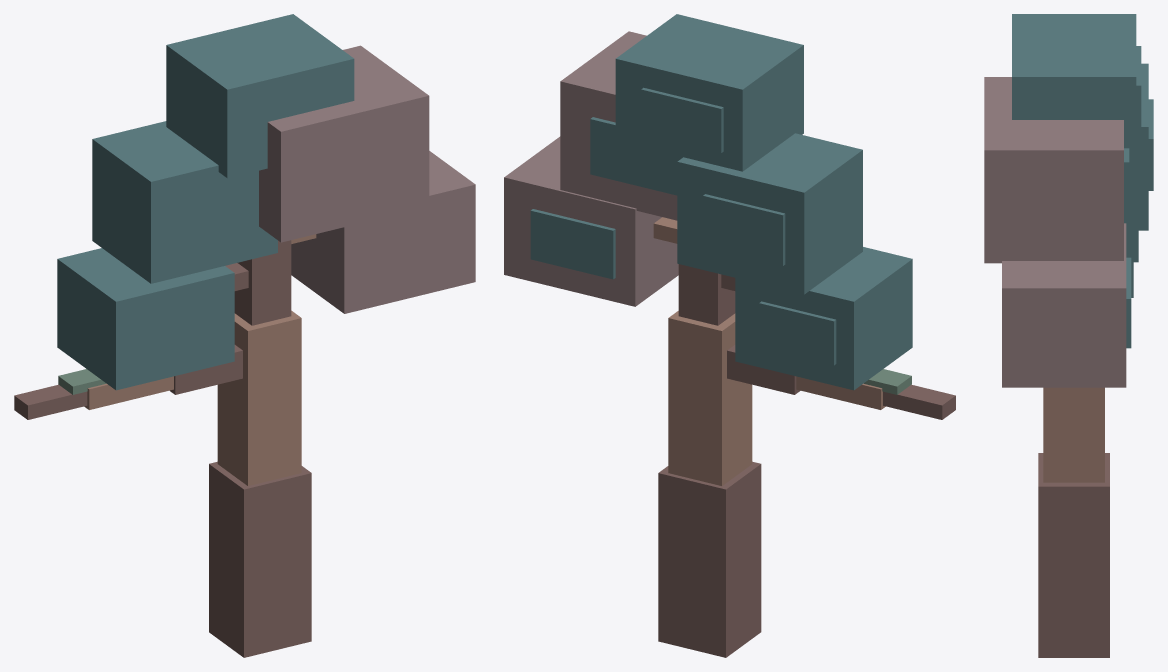
The model's file is menu_perch_tree.glb.
3 views of the same model, side by side, from view 1: azimuth 30°, elevation 25°; view 2: azimuth 150°, elevation 25°; view 3: azimuth 270°, elevation 25° (orthographic).
Visible parts, largest first — view 1: Moonpost Menu Perch Tree; view 2: Moonpost Menu Perch Tree; view 3: Moonpost Menu Perch Tree.
Boxes of the visible parts, <box> form: Moonpost Menu Perch Tree: <box>14,14,475,657</box>; Moonpost Menu Perch Tree: <box>504,14,955,657</box>; Moonpost Menu Perch Tree: <box>984,14,1153,657</box>.
Size of the model in its own units: 9.9 by 13.2 by 3.4.
